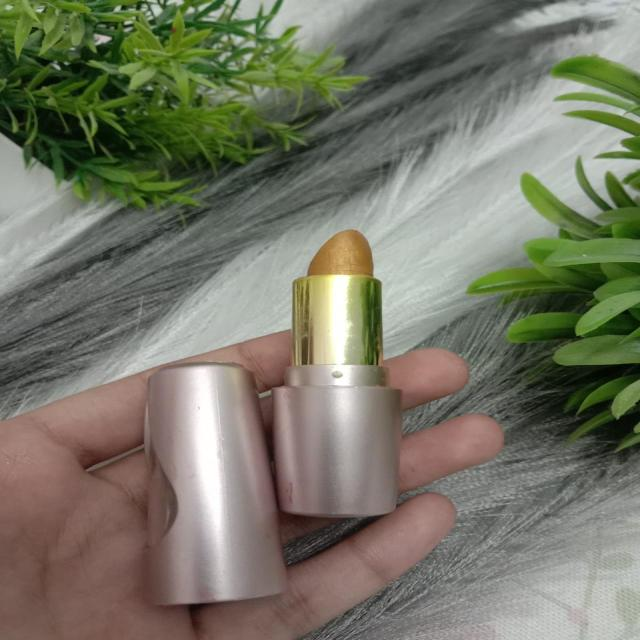lip stick: (84, 190, 445, 630)
